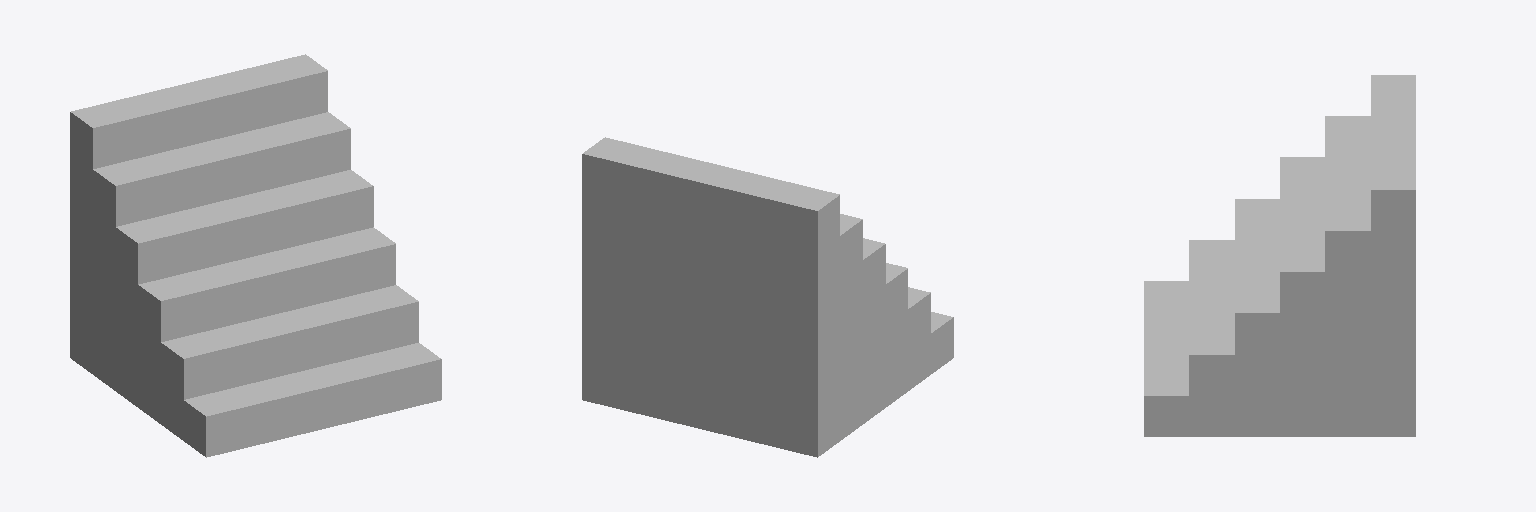
The model's file is Side Slope.obj.
3 renders of one model, left to right at view 1: azimuth 30°, elevation 25°; view 2: azimuth 150°, elevation 25°; view 3: azimuth 270°, elevation 25°, orthographic.
Parts seen in each view (by area): view 1: object 1; view 2: object 1; view 3: object 1.
Boxes of the visible parts, x1,y1,x2,y2 form: object 1: [70, 54, 441, 457]; object 1: [582, 137, 953, 457]; object 1: [1144, 75, 1415, 436].
Bounding box in the file's own units: 0.6 × 0.6 × 0.6.